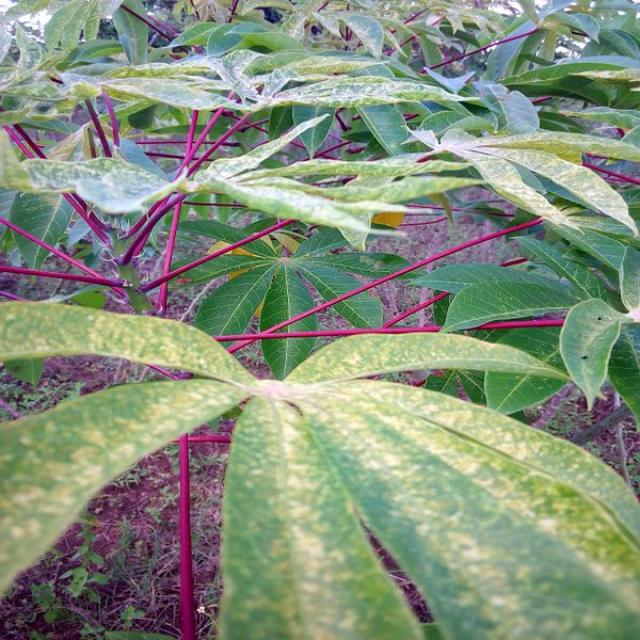cassava leaf: (2, 1, 640, 637), (218, 375, 640, 638)
